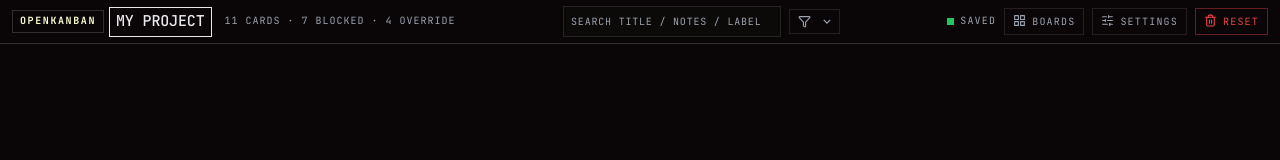
Scenario: TopBar — the board title is an in-place rename control › Escape cancels: the stored name is unchanged
Press Enter
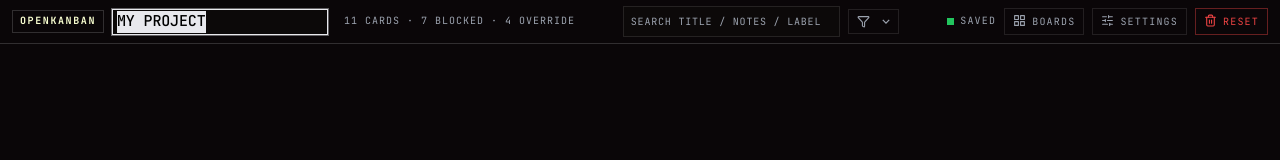
Replace the text in the field named "Board name" with "renamed by escape" at point(220, 22), box x1=112 y1=9 x2=328 y2=35
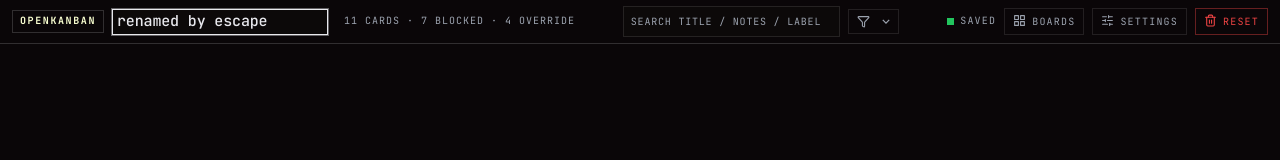
Press Escape
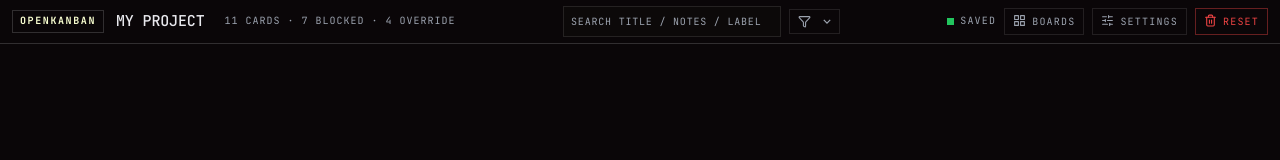
Expected: the button "MY PROJECT" is shown, x1=112 y1=10 x2=208 y2=34
